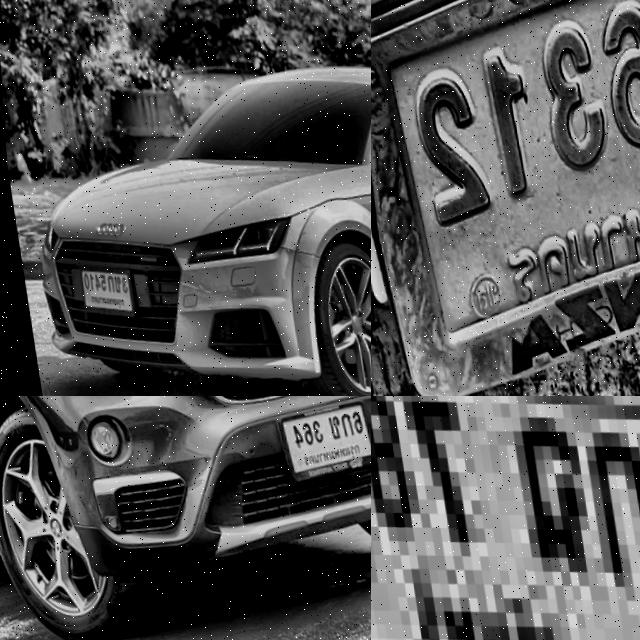license-plate: (371, 0, 640, 396), (371, 396, 640, 640), (265, 396, 371, 485), (68, 259, 130, 318)
